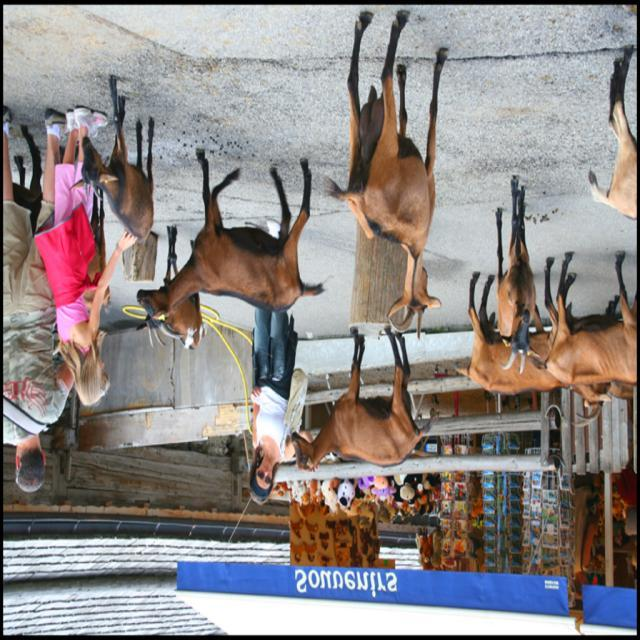Goat: (135, 149, 327, 349), (289, 326, 437, 475)
